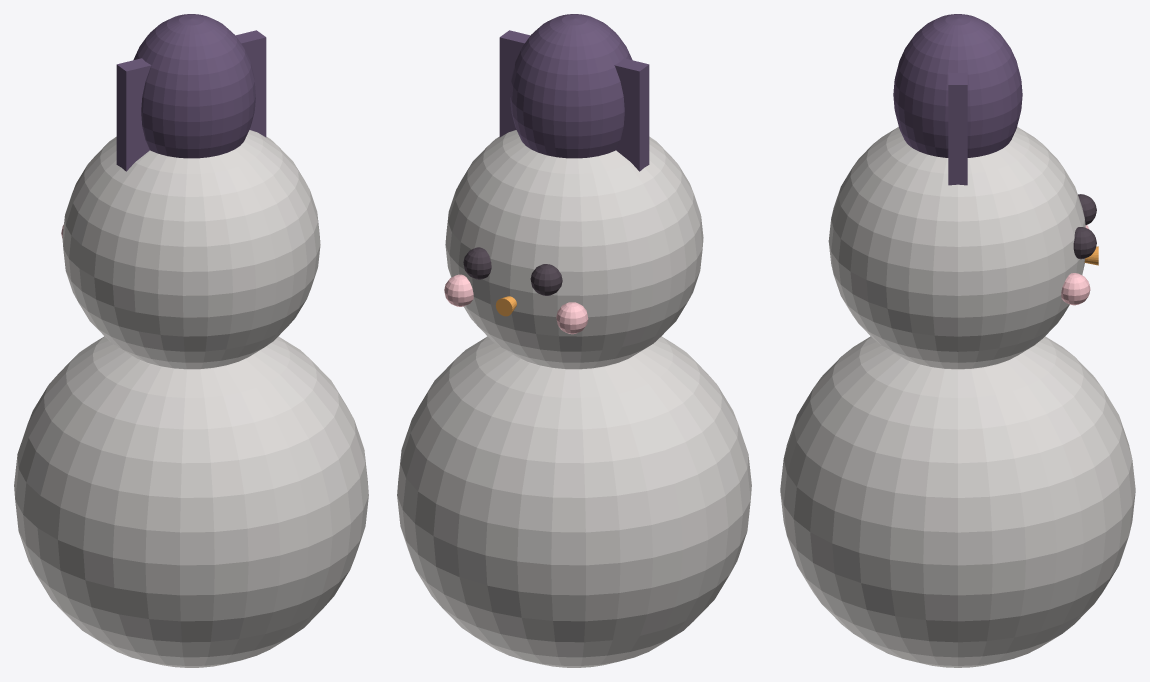
Rendered from captain_snowman.glb.
The picture shows the model from 3 angles, left to right: view 1: azimuth 30°, elevation 25°; view 2: azimuth 150°, elevation 25°; view 3: azimuth 270°, elevation 25°; orthographic projection.
Visible parts, largest first — view 1: Sphere, Sphere.001, Sphere.006, Cube.001; view 2: Sphere, Sphere.001, Sphere.006, Cube.001, Sphere.004, Sphere.002, Sphere.005, Sphere.003; view 3: Sphere, Sphere.001, Sphere.006, Cube.001, Sphere.005, Sphere.003.
Part boxes in pixels (x1,y1,x2,y2): Sphere: [14, 336, 368, 667]; Sphere.001: [62, 130, 320, 369]; Sphere.006: [133, 14, 255, 158]; Cube.001: [116, 30, 266, 171]; Sphere: [397, 336, 751, 667]; Sphere.001: [445, 130, 703, 369]; Sphere.006: [510, 14, 632, 158]; Cube.001: [499, 30, 649, 171]; Sphere.004: [556, 302, 588, 334]; Sphere.002: [530, 264, 562, 295]; Sphere.005: [444, 274, 473, 306]; Sphere.003: [463, 247, 491, 279]; Sphere: [780, 336, 1135, 667]; Sphere.001: [828, 127, 1085, 369]; Sphere.006: [893, 14, 1022, 157]; Cube.001: [948, 72, 967, 185]; Sphere.005: [1061, 273, 1090, 305]; Sphere.003: [1073, 227, 1096, 259].
Size of the model in its own units: 1.1 by 2.16 by 1.1.
